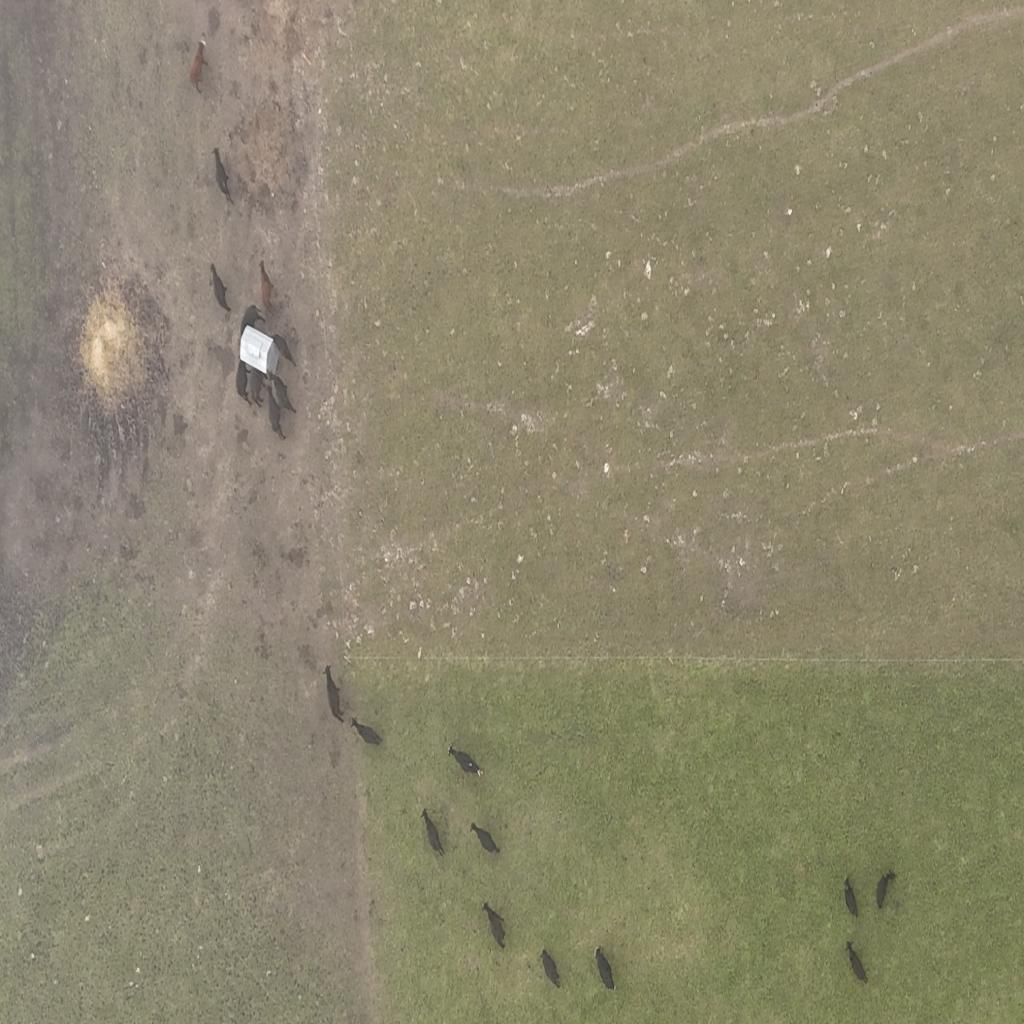cow: (255, 255, 279, 326), (210, 142, 234, 210), (269, 370, 299, 416), (189, 35, 209, 99), (324, 665, 346, 723), (266, 382, 287, 442), (421, 807, 445, 858), (448, 744, 484, 778), (482, 900, 506, 951), (269, 328, 297, 368), (209, 263, 231, 312), (470, 821, 500, 856), (350, 716, 382, 747), (846, 940, 868, 984), (594, 945, 615, 991), (875, 868, 896, 912), (246, 364, 266, 408), (240, 304, 266, 337), (540, 948, 560, 988), (236, 357, 252, 407), (844, 875, 859, 921)
